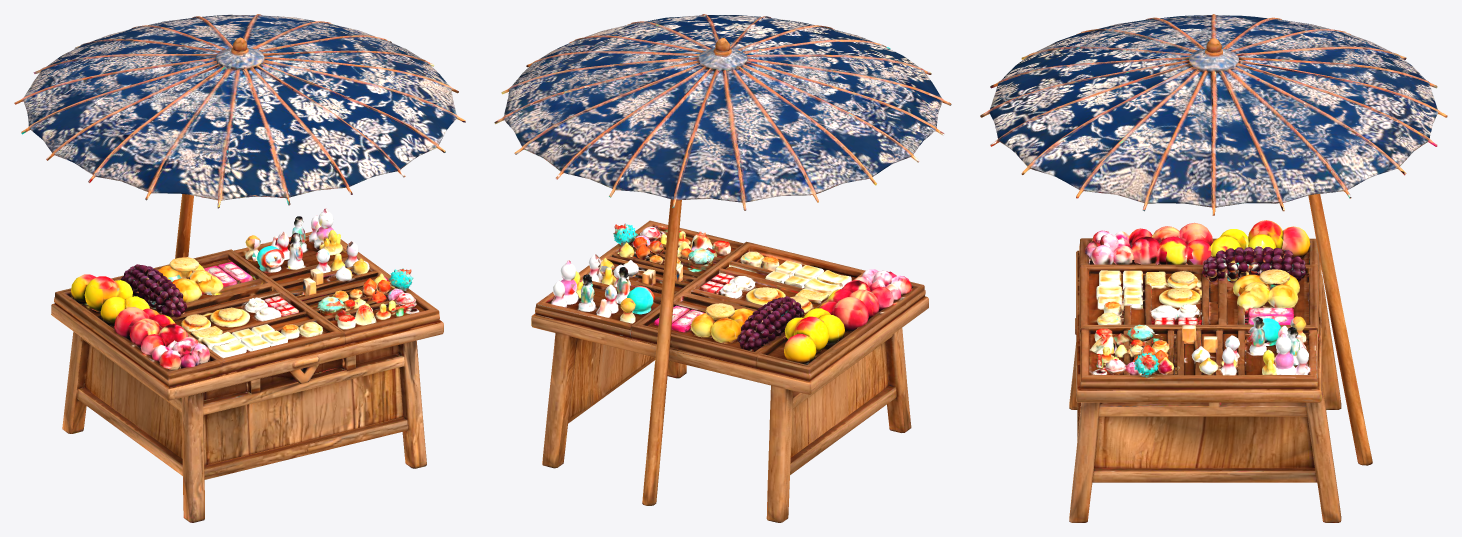
The model's file is qm_stall.glb.
3 renders of one model, left to right at view 1: azimuth 30°, elevation 25°; view 2: azimuth 150°, elevation 25°; view 3: azimuth 270°, elevation 25°, orthographic. The views are drawn at different scales.
Visible parts, largest first — view 1: qm_stall; view 2: qm_stall; view 3: qm_stall.
Part boxes in pixels (box(x1,y1,x2,y2)): qm_stall: box(14, 14, 465, 522); qm_stall: box(494, 14, 951, 522); qm_stall: box(980, 14, 1447, 522).
Size of the model in its own units: 3.2 by 3.2 by 3.2.
1 material, 1 textured.
